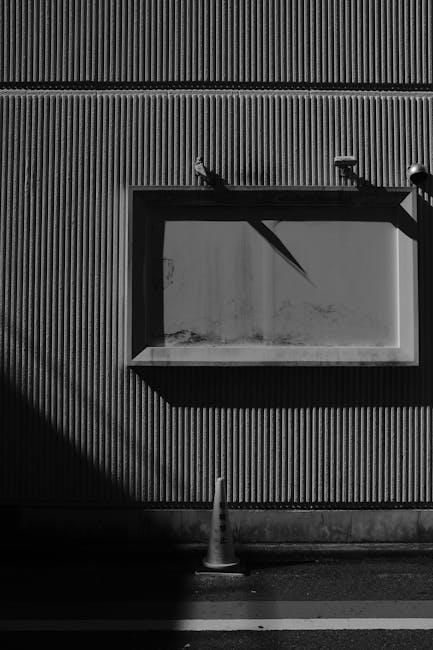traffic_cone: (194, 476, 248, 576)
